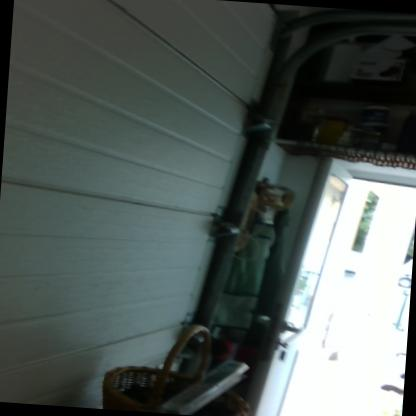open: (246, 140, 415, 415)
